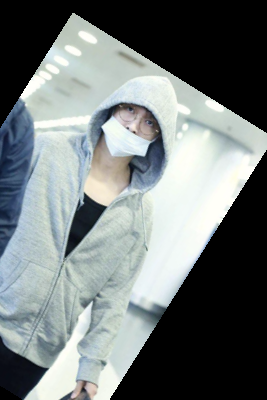mask_weared_incorrect: (82, 69, 185, 174)
